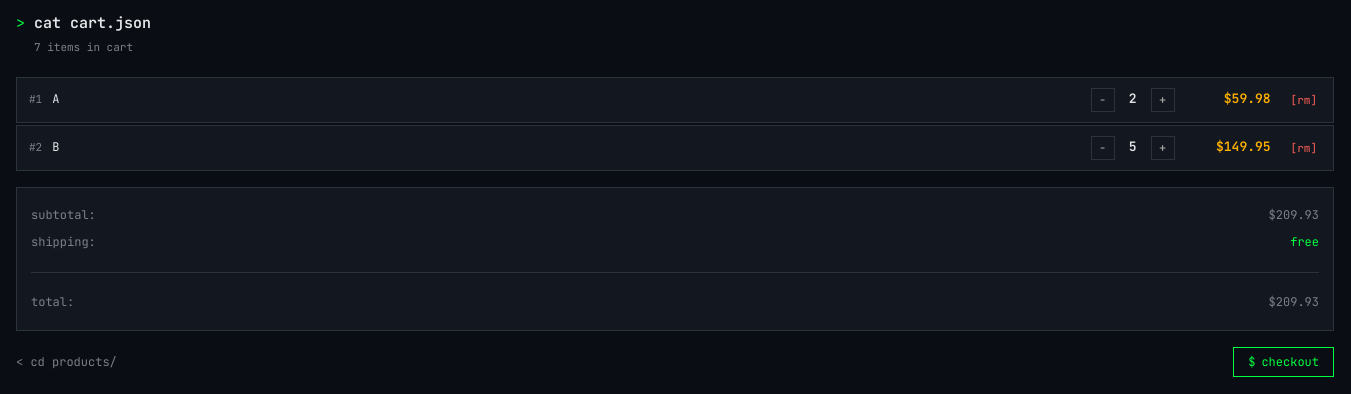
CartComponent › quantity interactions › + on item A should not affect item B quantity in DOM
Step 1. Click the button "+" next to "$59.98" → (1163, 100), box [1151,88,1175,112]
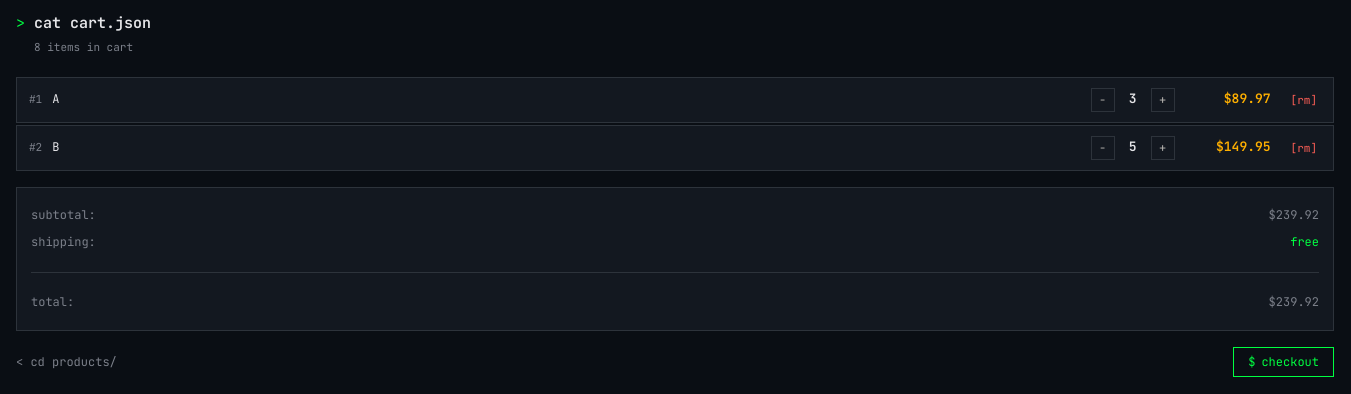
Check: the text "5" is shown, box [1129,138,1136,155]
Check: the text "3" is shown, box [1129,90,1136,107]
